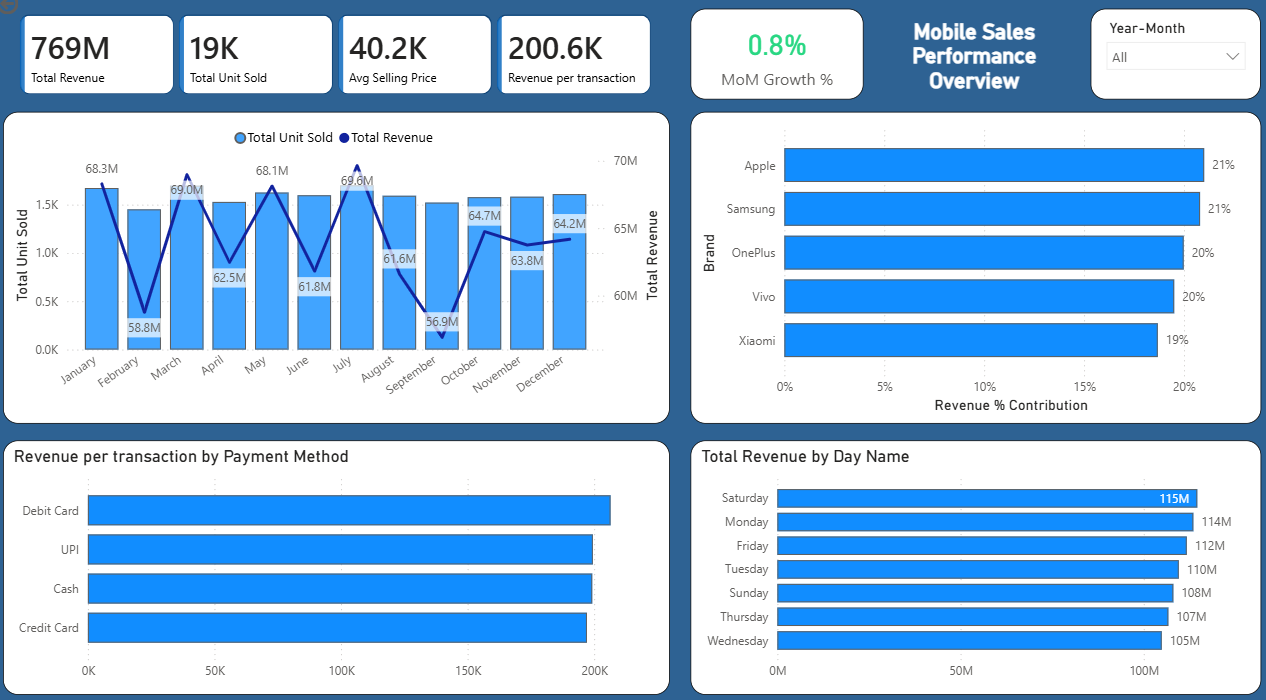

This screenshot's page, from the dashboard's own definition file:
{"tool":"powerbi","page":{"name":"Mobile Sales Performance Overview ","canvas":[1280,720],"ordinal":0},"visuals":[{"type":"actionButton","box":[0,0,31.6,30.3],"z":0},{"type":"cardVisual","fields":{"Data":["Mobile_Sales_Data.Total Revenue","Mobile_Sales_Data.Total Unit Sold","Mobile_Sales_Data.Avg Selling Price","Mobile_Sales_Data.Revenue per Txn"]},"box":[11,9.6,667,114.1],"z":1000},{"type":"lineClusteredColumnComboChart","fields":{"Y":["Mobile_Sales_Data.Total Unit Sold"],"Y2":["Mobile_Sales_Data.Total Revenue"],"Category":["Date.Date.Variation.Date Hierarchy.Month"]},"box":[11,123.8,667,312.2],"z":2000},{"type":"clusteredBarChart","fields":{"Category":["Mobile_Sales_Data.Brand"],"Y":["Mobile_Sales_Data.Revenue % Contribution"]},"box":[698.6,123.8,570.7,312.2],"z":3000},{"type":"clusteredBarChart","fields":{"Y":["Mobile_Sales_Data.Revenue Txn"],"Category":["Mobile_Sales_Data.Payment Method"]},"box":[11,452.5,667,254.4],"z":4000},{"type":"clusteredBarChart","fields":{"Category":["Mobile_Sales_Data.Day Name"],"Y":["Mobile_Sales_Data.Total Revenue"]},"box":[698.6,452.5,570.7,254.4],"z":5000},{"type":"card","fields":{"Values":["Date.MoM Growth %"]},"box":[698.6,20.6,173.3,90.8],"z":6000},{"type":"slicer","fields":{"Values":["Date.Year-Month"]},"box":[1098.8,20.6,170.5,90.8],"z":7000},{"type":"textbox","box":[882.9,30.3,199.4,81.1],"z":8000}]}

Visuals, with their boxes in screenshot pixels (x1, y1, x2, y2), scaled from the page's 1280x720 canvas onto the 1266x700 screenshot:
actionButton: (left=0, top=0, right=31, bottom=29)
cardVisual - Mobile_Sales_Data.Total Revenue x Mobile_Sales_Data.Total Unit Sold: (left=11, top=9, right=671, bottom=120)
lineClusteredColumnComboChart - Mobile_Sales_Data.Total Unit Sold x Mobile_Sales_Data.Total Revenue: (left=11, top=120, right=671, bottom=424)
clusteredBarChart - Mobile_Sales_Data.Brand x Mobile_Sales_Data.Revenue % Contribution: (left=691, top=120, right=1255, bottom=424)
clusteredBarChart - Mobile_Sales_Data.Revenue Txn x Mobile_Sales_Data.Payment Method: (left=11, top=440, right=671, bottom=687)
clusteredBarChart - Mobile_Sales_Data.Day Name x Mobile_Sales_Data.Total Revenue: (left=691, top=440, right=1255, bottom=687)
card - Date.MoM Growth %: (left=691, top=20, right=862, bottom=108)
slicer - Date.Year-Month: (left=1087, top=20, right=1255, bottom=108)
textbox: (left=873, top=29, right=1070, bottom=108)
